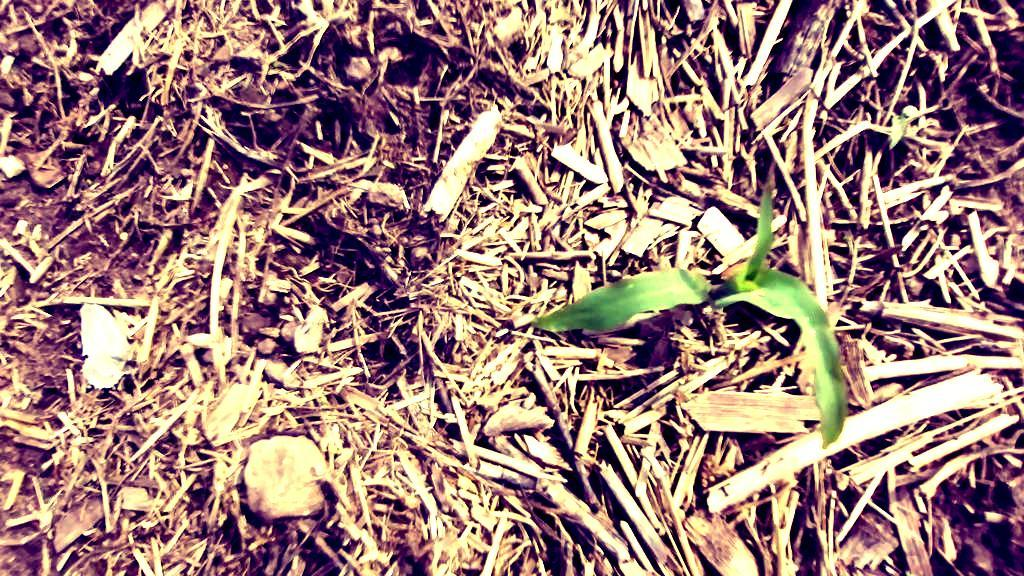BroWeed: (877, 98, 920, 152), (856, 321, 884, 367), (832, 466, 853, 493), (108, 218, 130, 243), (191, 217, 211, 236), (876, 349, 898, 364), (677, 436, 691, 455), (272, 58, 290, 69), (329, 444, 344, 457), (84, 176, 94, 186), (843, 234, 852, 244)
Maize: (529, 153, 927, 547)
